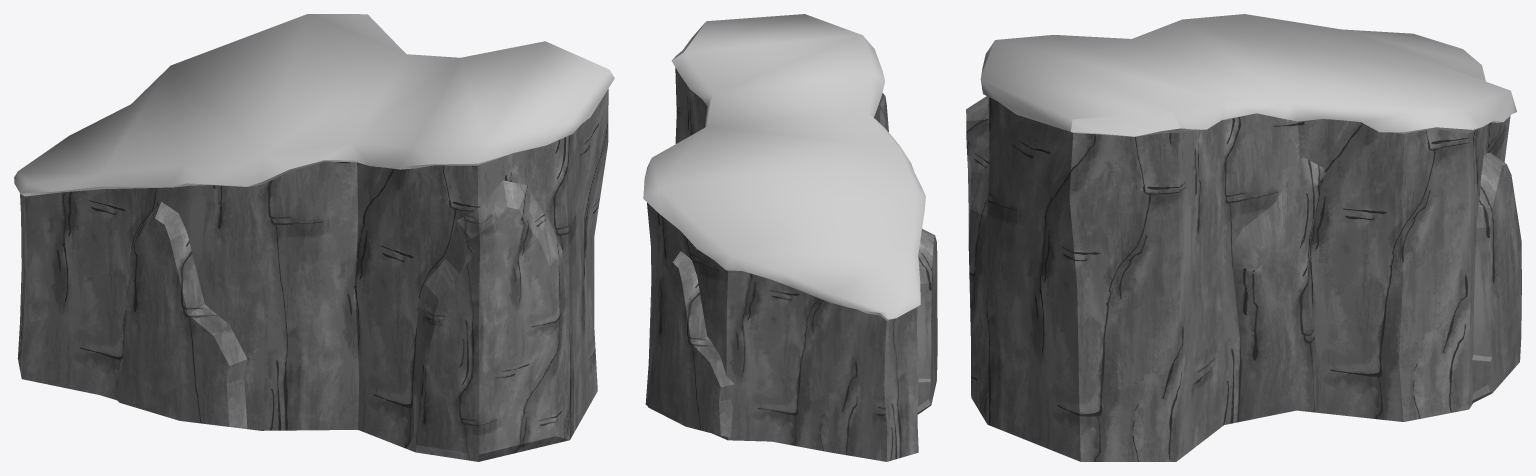
The model's file is CliffWAll_medium.fbx.
3 views of the same model, side by side, from view 1: azimuth 30°, elevation 25°; view 2: azimuth 150°, elevation 25°; view 3: azimuth 270°, elevation 25° (orthographic). The views are drawn at different scales.
Parts seen in each view (by area): view 1: CliffWAll_medium; view 2: CliffWAll_medium; view 3: CliffWAll_medium.
Boxes of the visible parts, box(x1,y1,x2,y2) form: CliffWAll_medium: box(14, 14, 614, 461); CliffWAll_medium: box(643, 14, 937, 461); CliffWAll_medium: box(966, 14, 1521, 461).
Bounding box in the file's own units: 2474 × 1755 × 2550.
